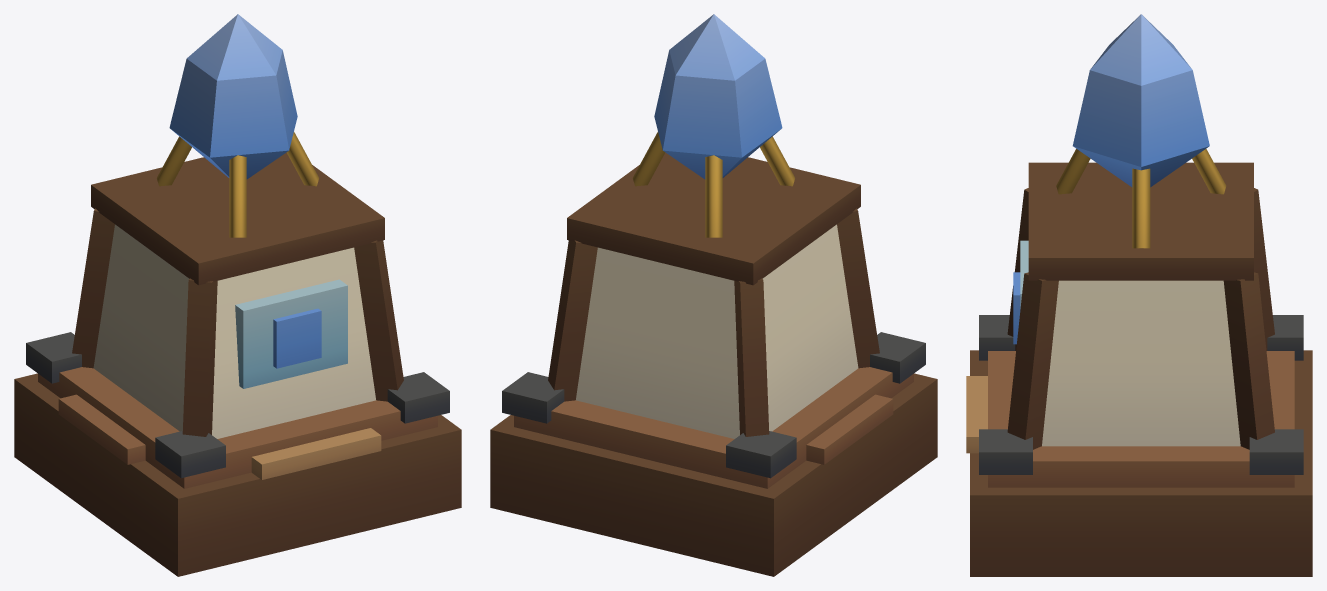
The model's file is logi_filter_sorter.glb.
3 views of the same model, side by side, from view 1: azimuth 30°, elevation 25°; view 2: azimuth 150°, elevation 25°; view 3: azimuth 270°, elevation 25° (orthographic). The views are drawn at different scales.
Visible parts, largest first — view 1: logi_filter_sorter; view 2: logi_filter_sorter; view 3: logi_filter_sorter.
Part boxes in pixels (x1,y1,x2,y2): logi_filter_sorter: [14, 14, 461, 576]; logi_filter_sorter: [490, 14, 937, 576]; logi_filter_sorter: [966, 14, 1312, 576].
Bounding box in the file's own units: 1.92 × 3 × 1.92.
1 material, 1 textured.
